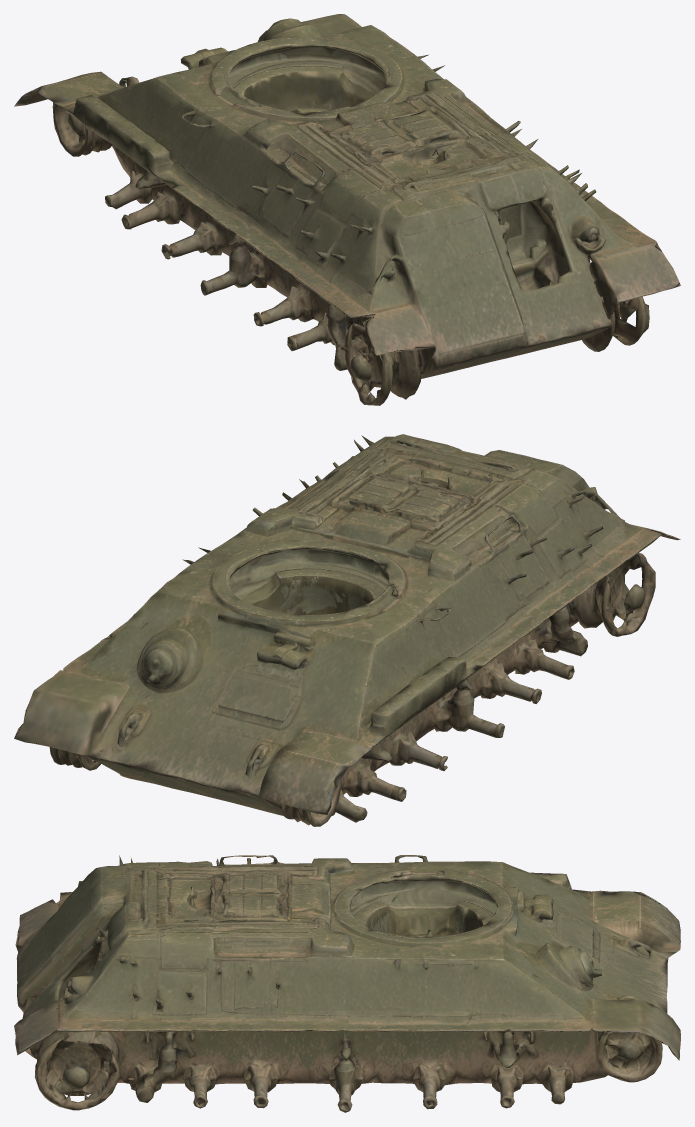
File: SM_VH_T34_85_Hull_Varco.fbx
The picture shows the model from 3 angles, top to bottom: view 1: azimuth 30°, elevation 25°; view 2: azimuth 150°, elevation 25°; view 3: azimuth 270°, elevation 25°; orthographic projection. The views are drawn at different scales.
Visible parts, largest first — view 1: texture_mapping; view 2: texture_mapping; view 3: texture_mapping.
Part boxes in pixels (bbox=[...]): texture_mapping: bbox=[14, 14, 680, 405]; texture_mapping: bbox=[14, 434, 680, 826]; texture_mapping: bbox=[14, 855, 680, 1112].
Size of the model in its own units: 0.498 by 0.9969 by 0.2671.
1 material, 1 textured.
